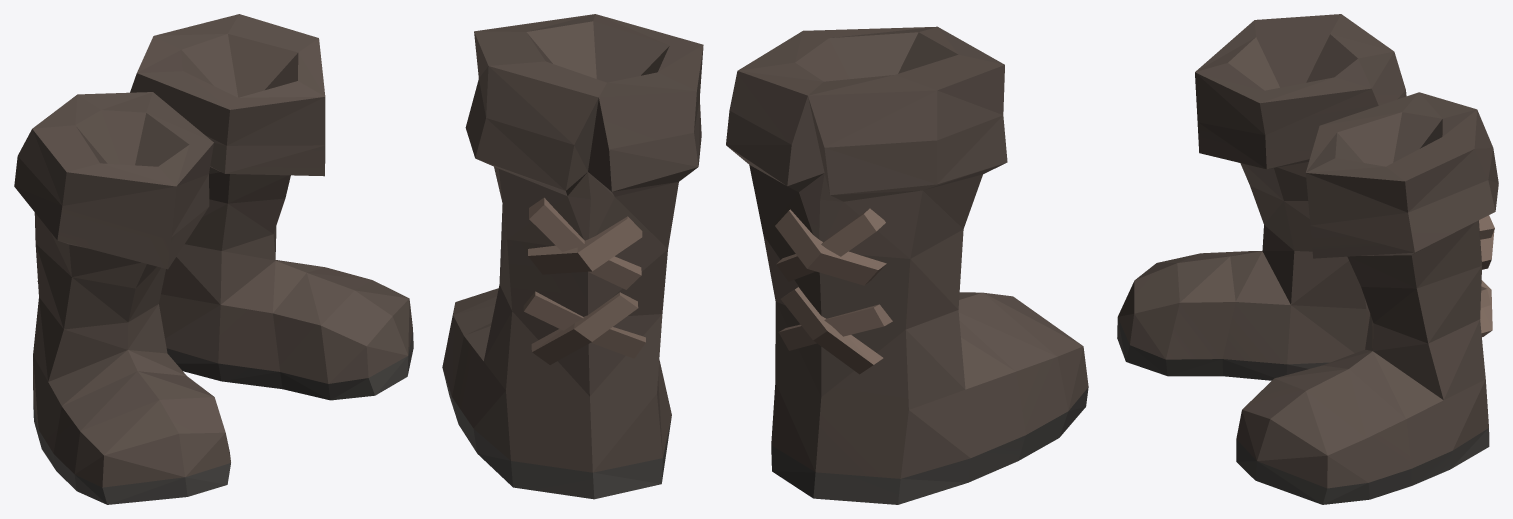
Rendered from bootsBeginnerDisplay.fbx.
The picture shows the model from 3 angles, left to right: view 1: azimuth 30°, elevation 25°; view 2: azimuth 150°, elevation 25°; view 3: azimuth 270°, elevation 25°; orthographic projection. The views are drawn at different scales.
Parts seen in each view (by area): view 1: bootsBeginnerDisplay; view 2: bootsBeginnerDisplay; view 3: bootsBeginnerDisplay.
Part boxes in pixels (x1,y1,x2,y2): bootsBeginnerDisplay: [14, 14, 413, 504]; bootsBeginnerDisplay: [442, 14, 1088, 504]; bootsBeginnerDisplay: [1117, 14, 1498, 504].
Size of the model in its own units: 1.6 by 1.16 by 1.29.
1 material, 1 textured.
